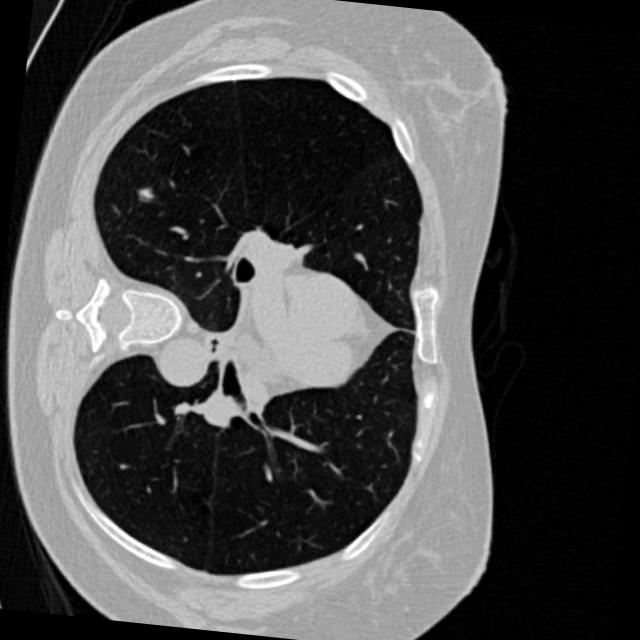nodule: (128, 176, 162, 208)
